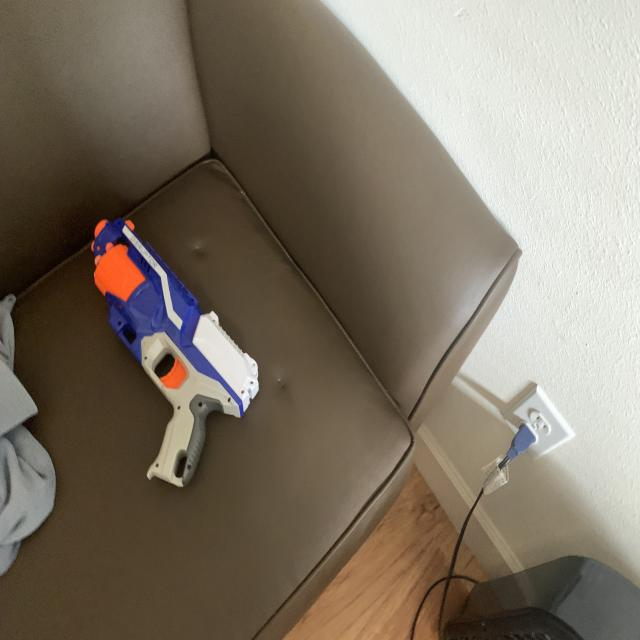nerf-maverik: (88, 209, 262, 494)
